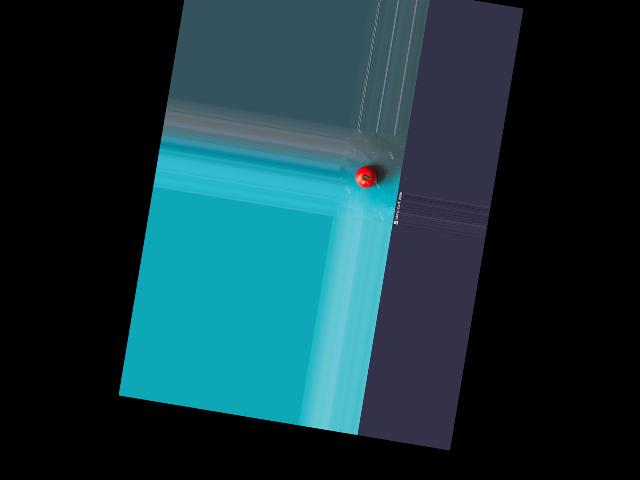tomato: (353, 164, 378, 189)
